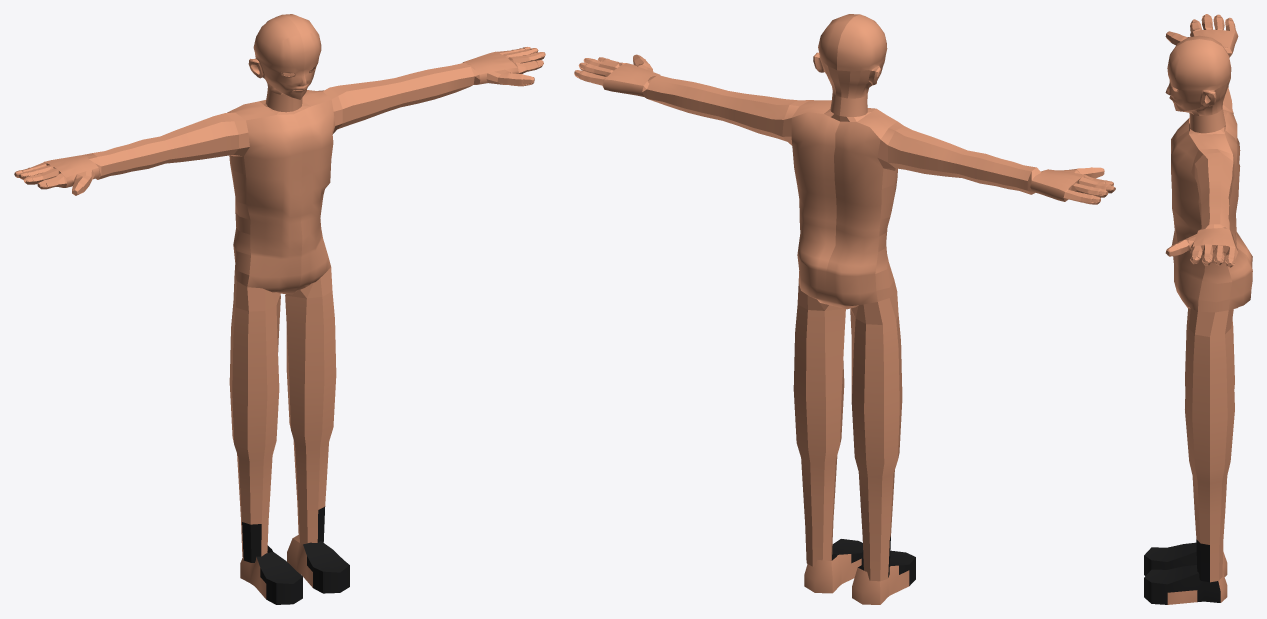
File: data_2.fbx
3 views of the same model, side by side, from view 1: azimuth 30°, elevation 25°; view 2: azimuth 150°, elevation 25°; view 3: azimuth 270°, elevation 25° (orthographic). The views are drawn at different scales.
Parts seen in each view (by area): view 1: polySurface57; view 2: polySurface57; view 3: polySurface57.
Boxes of the visible parts, bbox=[...] form: polySurface57: bbox=[14, 14, 545, 604]; polySurface57: bbox=[574, 14, 1115, 604]; polySurface57: bbox=[1144, 14, 1252, 604].
Size of the model in its own units: 13.73 by 14.14 by 2.55.
